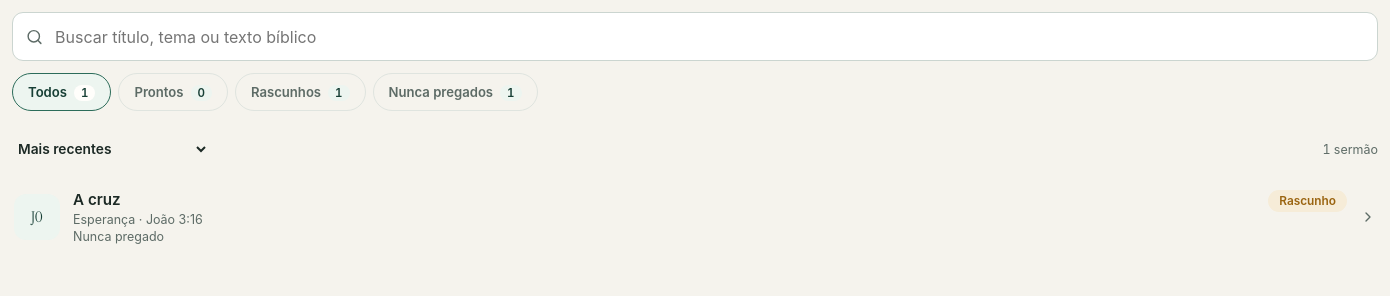
Test case: biblioteca de sermões › a busca sem resultado não parece biblioteca vazia
The width and height of the screenshot is (1390, 296).
Step 1. Type "nada disso existe" into the search field labelled "Buscar título, tema ou texto bíblico" → (695, 36), box [12,12,1378,61]
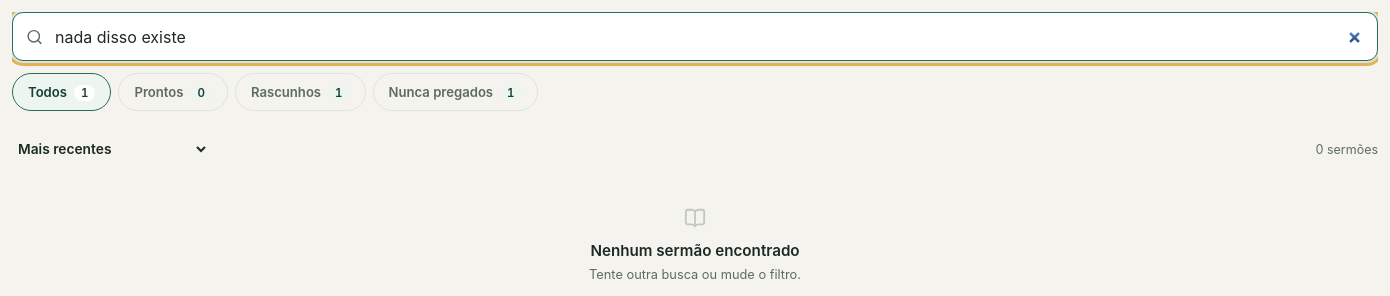
Result: the text "Nenhum sermão encontrado" is shown at [590,241,800,260]
